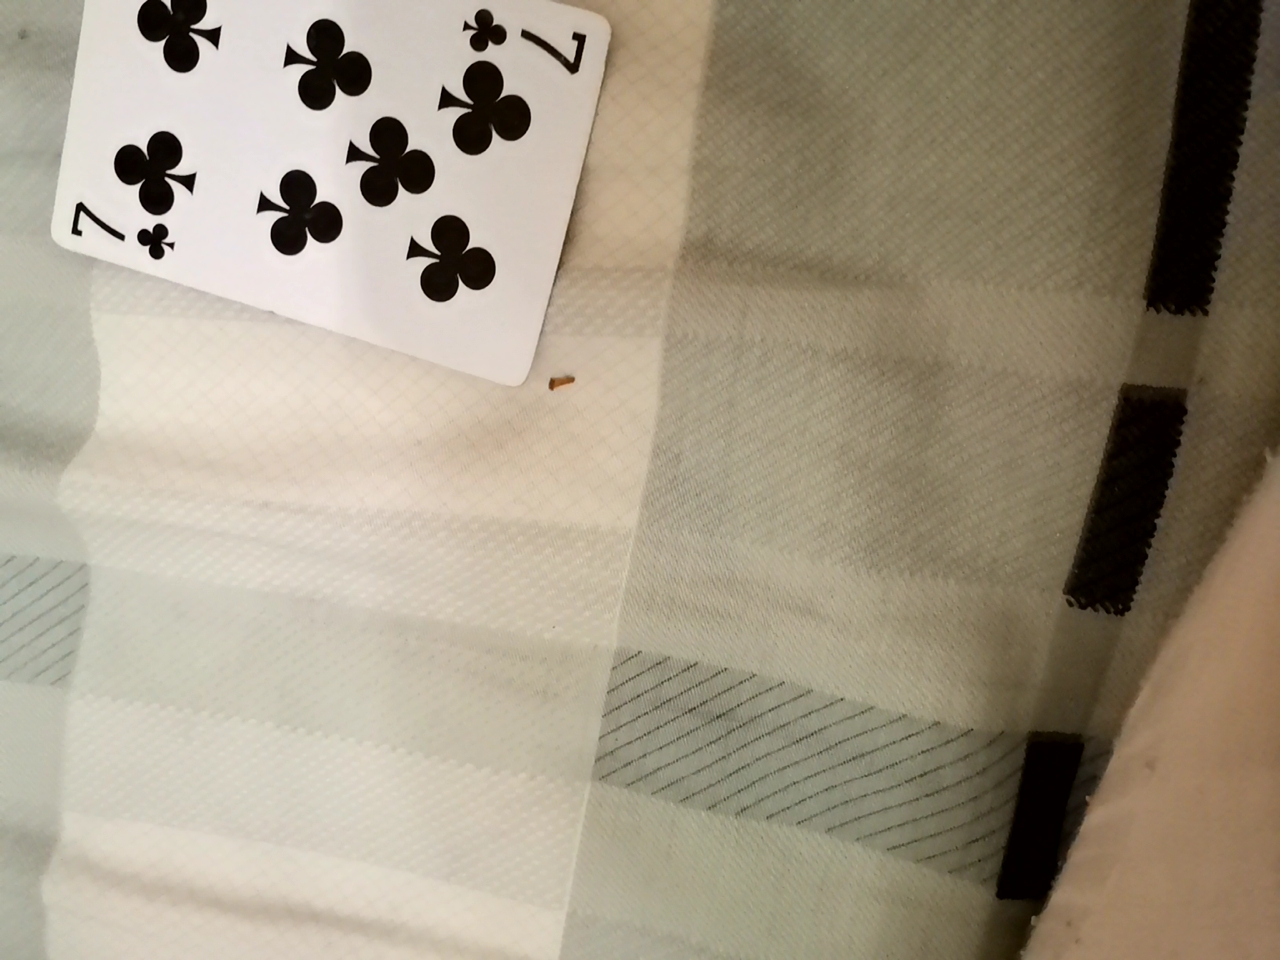mh 7: (47, 11, 575, 382)
